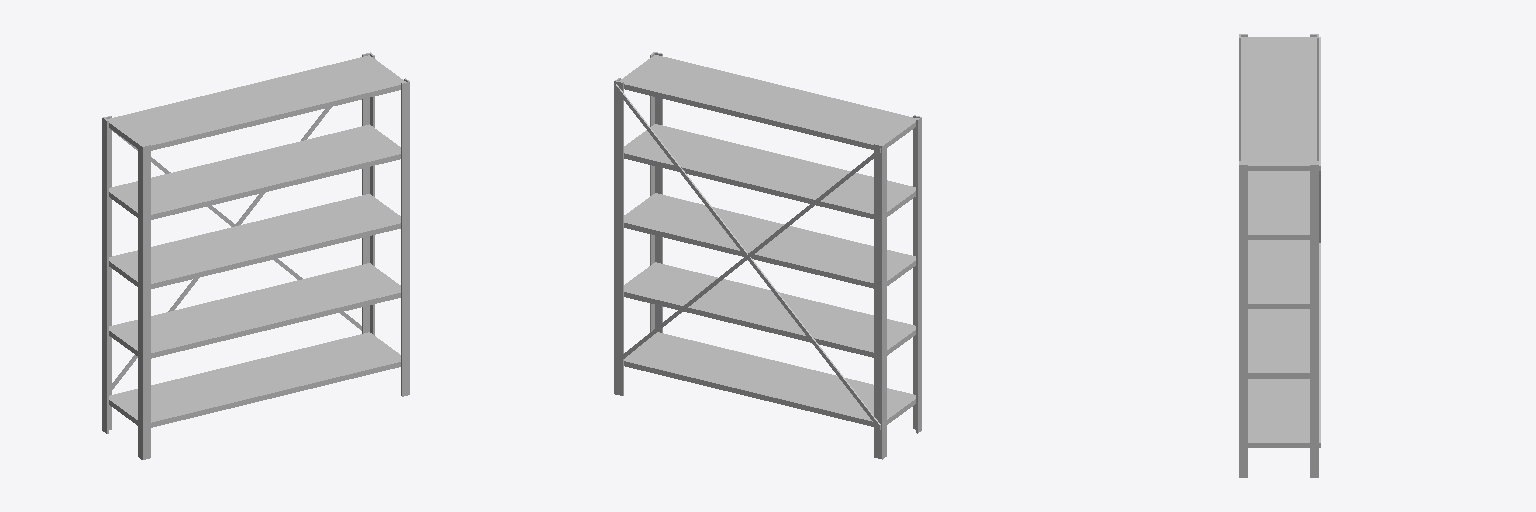
Rendered from shelf_mx_3_1.obj.
The picture shows the model from 3 angles: view 1: azimuth 30°, elevation 25°; view 2: azimuth 150°, elevation 25°; view 3: azimuth 270°, elevation 25°; orthographic projection.
Parts seen in each view (by area): view 1: shelf_mx_3_1; view 2: shelf_mx_3_1; view 3: shelf_mx_3_1.
Boxes of the visible parts, x1=… form: shelf_mx_3_1: x1=102, y1=52, x2=409, y2=459; shelf_mx_3_1: x1=614, y1=52, x2=921, y2=459; shelf_mx_3_1: x1=1239, y1=34, x2=1320, y2=477.
Bounding box in the file's own units: 1.62 × 1.81 × 0.43.